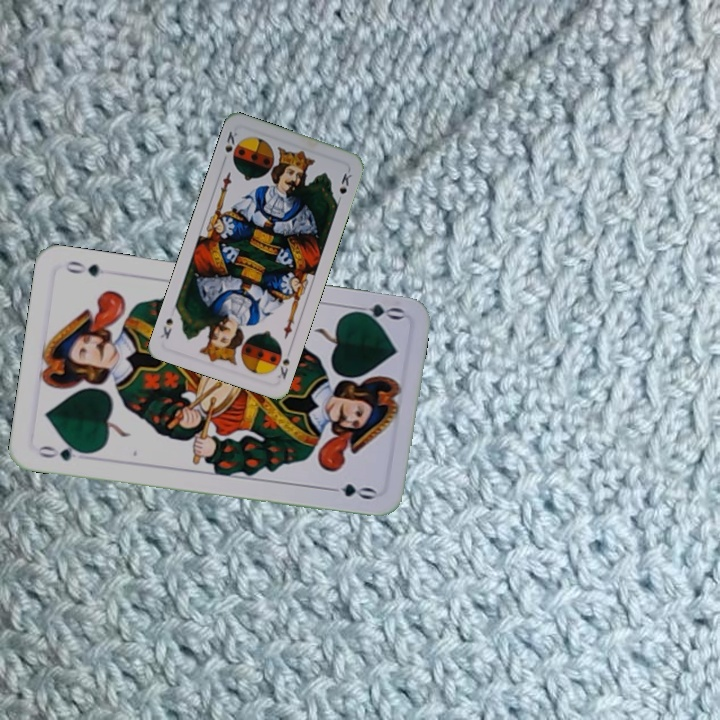GO: (346, 300, 406, 325), (33, 440, 92, 464)
SK: (271, 344, 294, 382), (221, 126, 240, 155)
